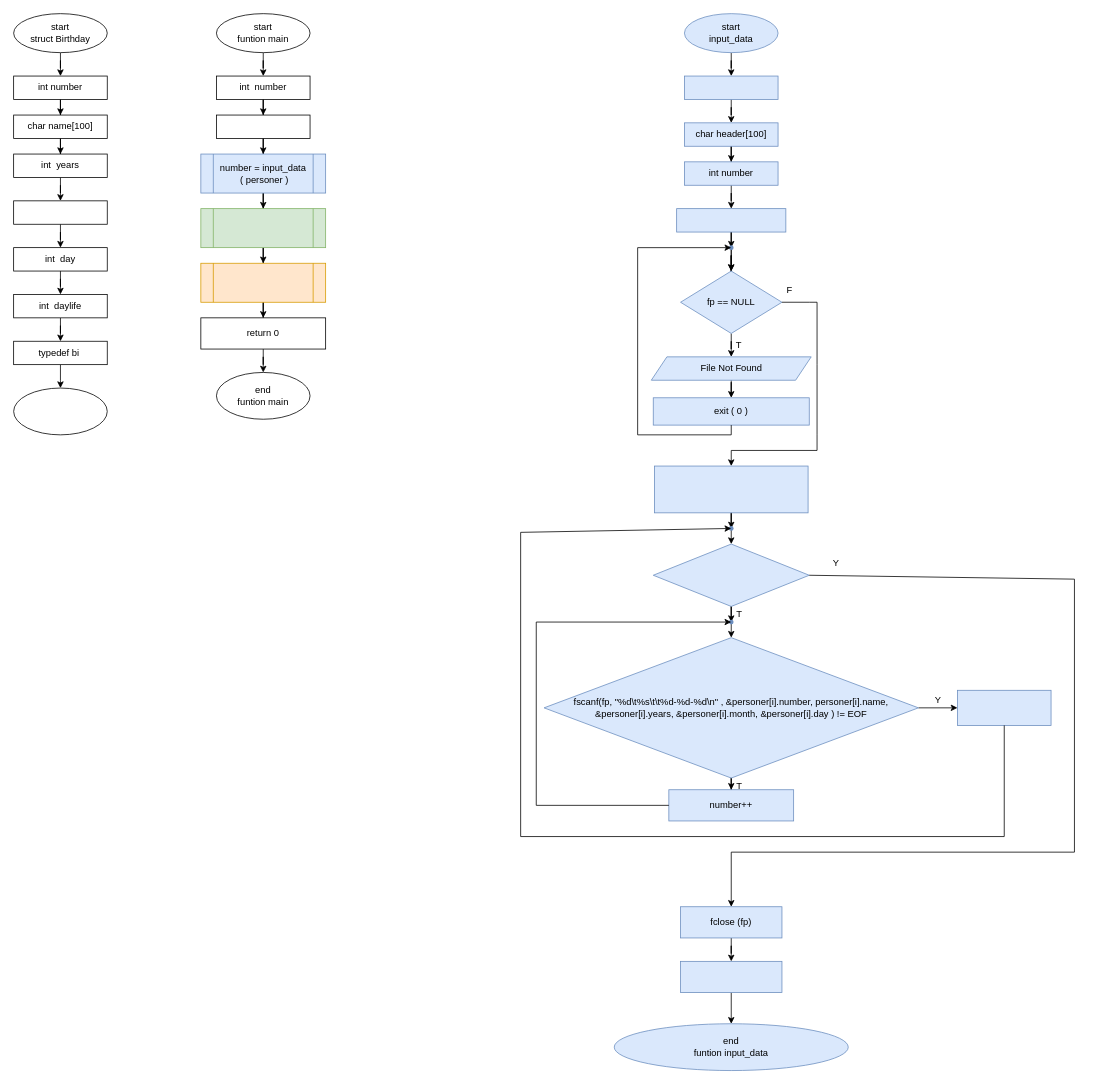
Some shapes in this 1094 by 1084 pixel diagram are drawn without their labels. Here are the shapes that lost their labels. From the top down, the centre of each, then its label:
the point at 731,87: FILE *fp
the point at 263,126: bi personer[100]
the point at 60,212: int month
the point at 263,228: output_data ( personer, number )
the point at 731,220: fp = fopen("a.txt" , "r")
the point at 263,282: maxmin_age ( personer, number )
the point at 60,411: end
the point at 731,489: fscanf ( fp, "%s\t%s\t\t%s\n", header, header, header )
the point at 730,574: int i = 0 ; i < 100 ; i++
the point at 1004,707: break
the point at 731,977: return number
